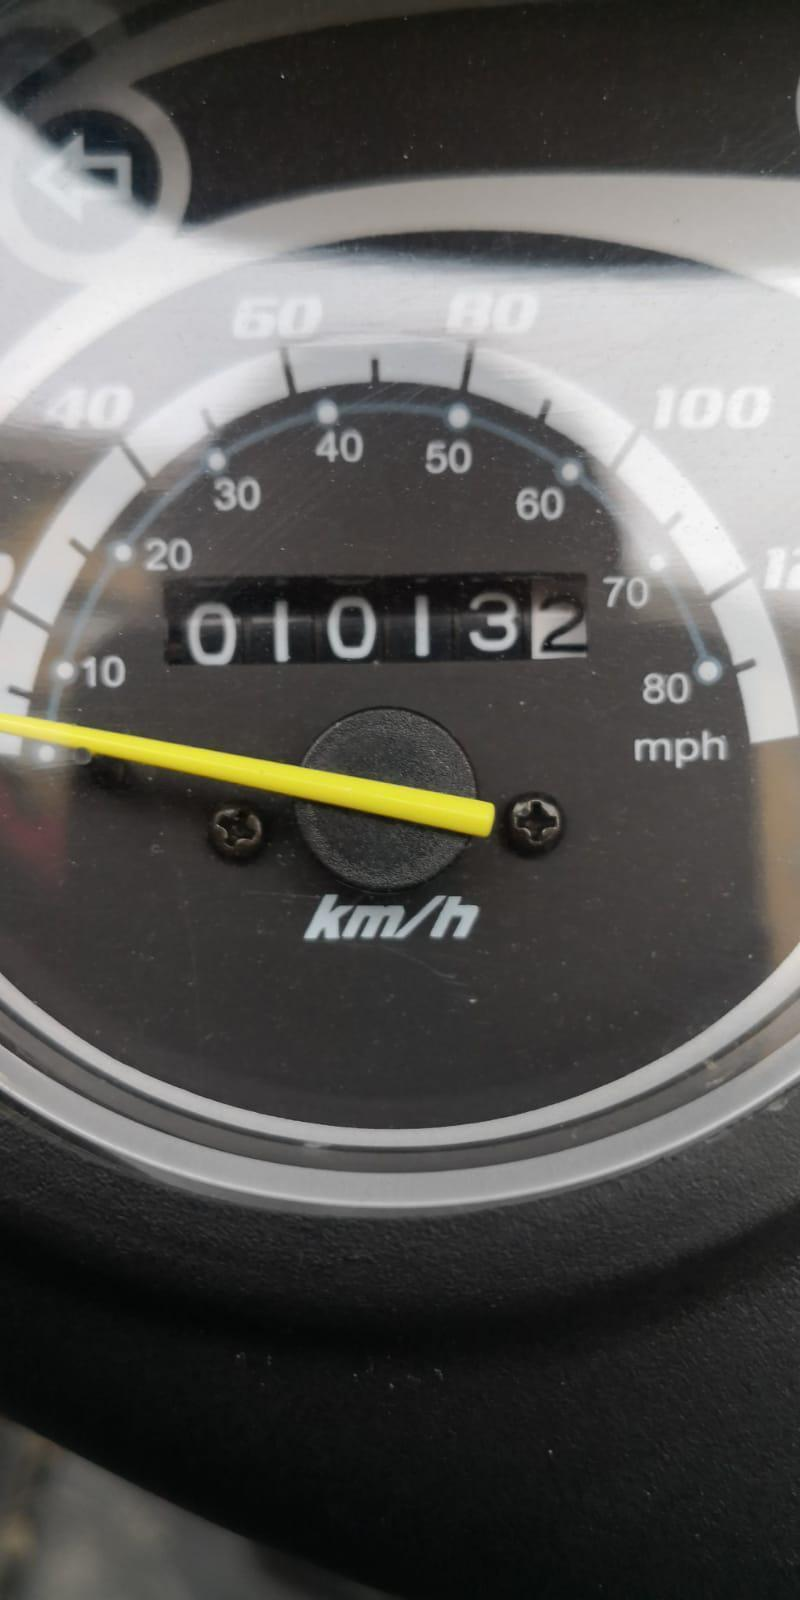0: (318, 583, 380, 679), (179, 594, 240, 677)
1: (262, 585, 302, 676), (405, 584, 441, 679)
2: (536, 585, 592, 661)
3: (464, 584, 521, 666)
odometer: (158, 563, 605, 706)
